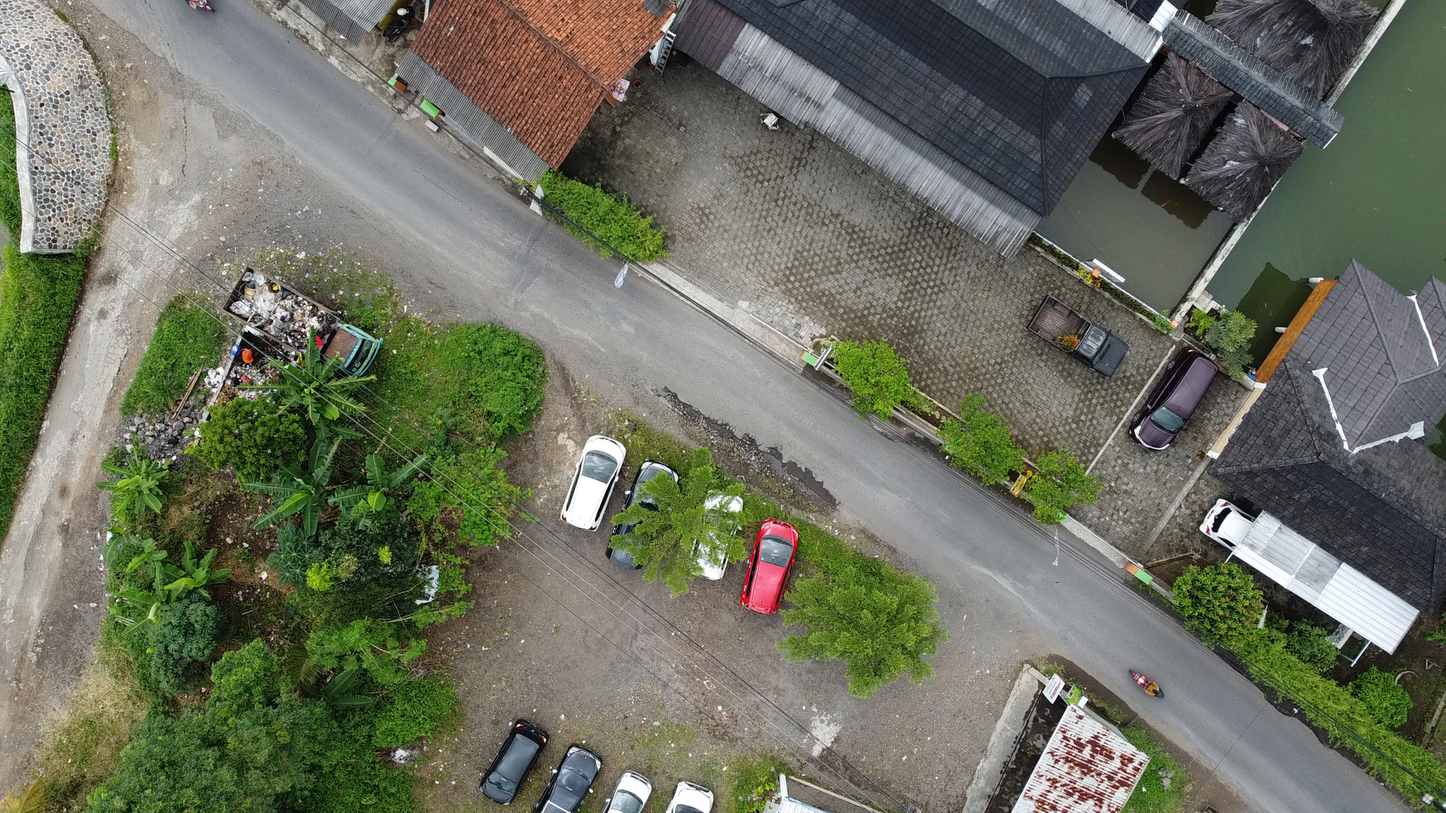mobil: (1020, 285, 1134, 388), (1136, 332, 1217, 453), (554, 432, 630, 539), (740, 508, 806, 623), (683, 481, 749, 589), (612, 455, 679, 561), (474, 708, 545, 796), (544, 732, 615, 813), (605, 759, 655, 813)
